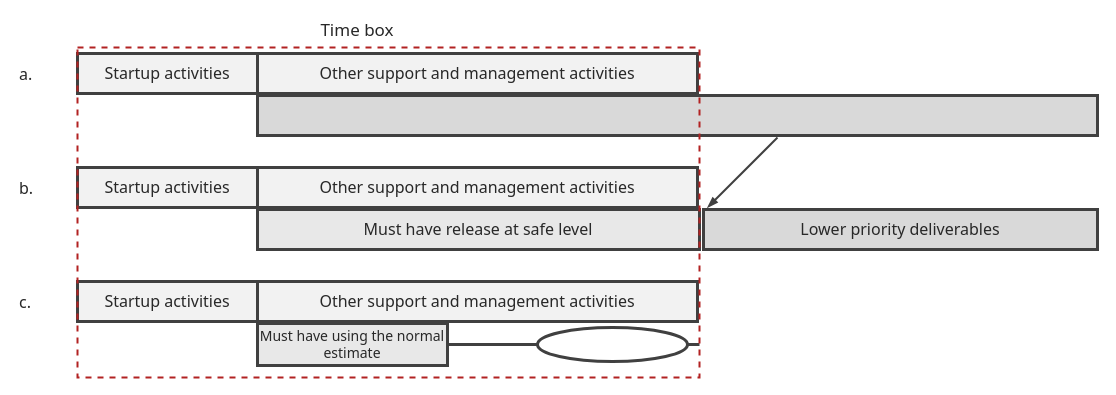
The diagram is 1116 pixels wide and 395 high, and some of its shapes have lost their labels. The centre of each missing label's shape, as x and y in pixels:
"Buffer" belongs at (612,344).
"Development activities scheduled at their safe level" belongs at (677,115).
